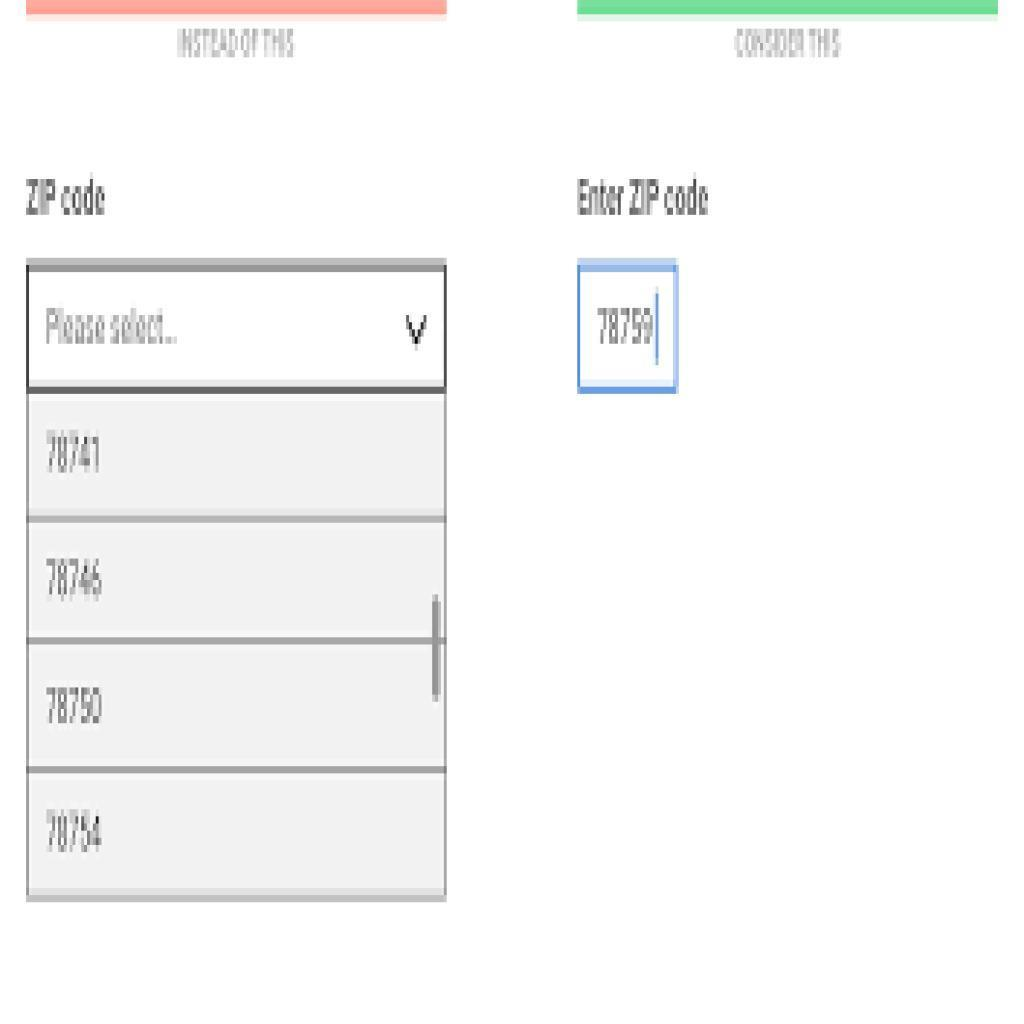dropdown: (27, 266, 449, 394)
input: (580, 261, 680, 393)
